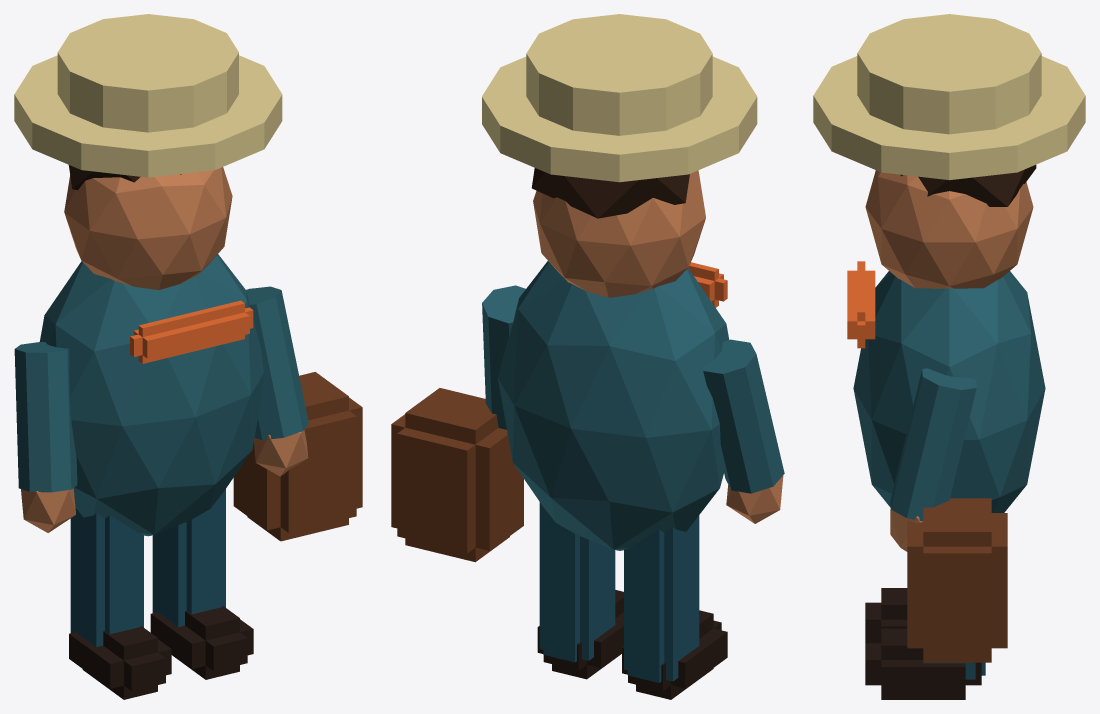
Rendered from townsfolk.glb.
3 views of the same model, side by side, from view 1: azimuth 30°, elevation 25°; view 2: azimuth 150°, elevation 25°; view 3: azimuth 270°, elevation 25° (orthographic). The views are drawn at different scales.
Parts seen in each view (by area): view 1: Waiting passengerMesh; view 2: Waiting passengerMesh; view 3: Waiting passengerMesh.
Boxes of the visible parts, x1,y1,x2,y2 form: Waiting passengerMesh: [14, 14, 362, 699]; Waiting passengerMesh: [391, 14, 784, 699]; Waiting passengerMesh: [813, 14, 1085, 699].
Bounding box in the file's own units: 1 × 1.71 × 0.68.
